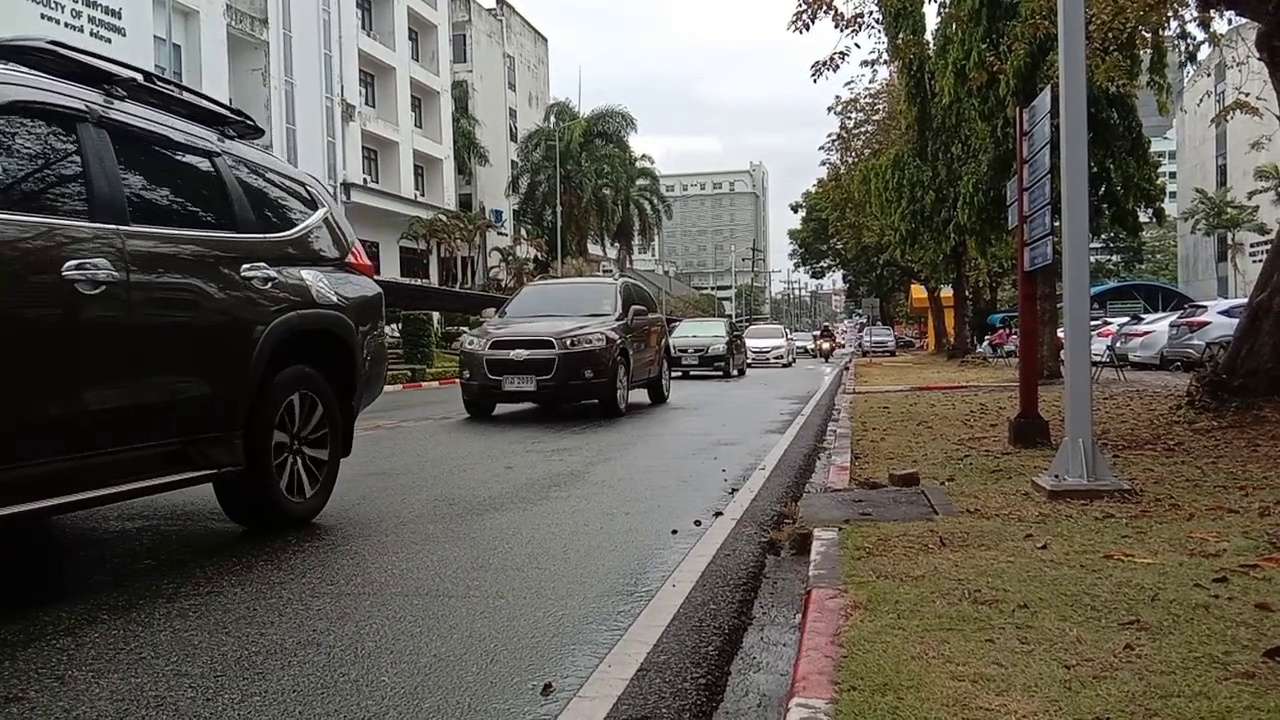License Plate: (502, 374, 536, 394)
